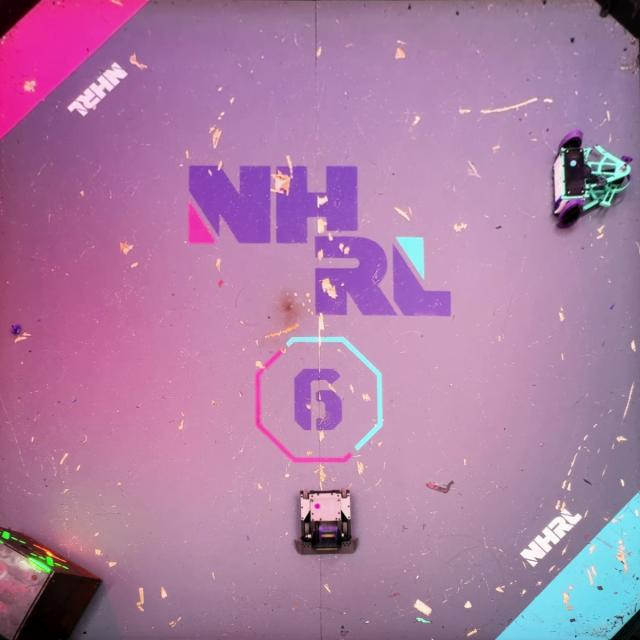housebot: (0, 525, 103, 640)
robot: (551, 131, 634, 232), (292, 489, 357, 556)
